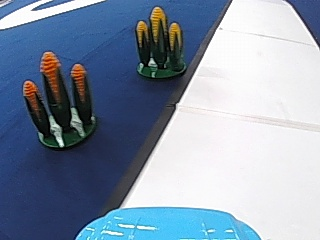corn: (23, 53, 97, 148), (132, 4, 188, 80)
